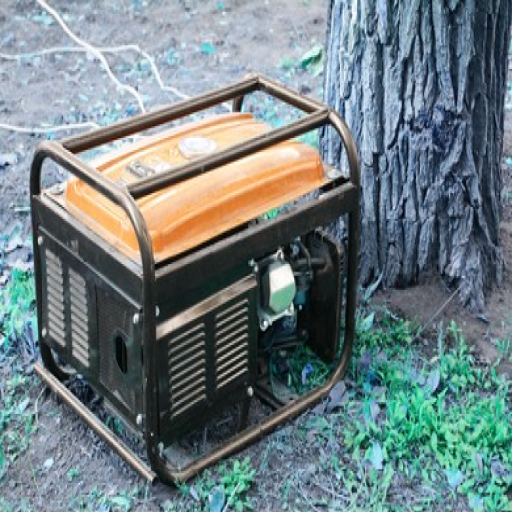portable_generator: (29, 72, 360, 483)
